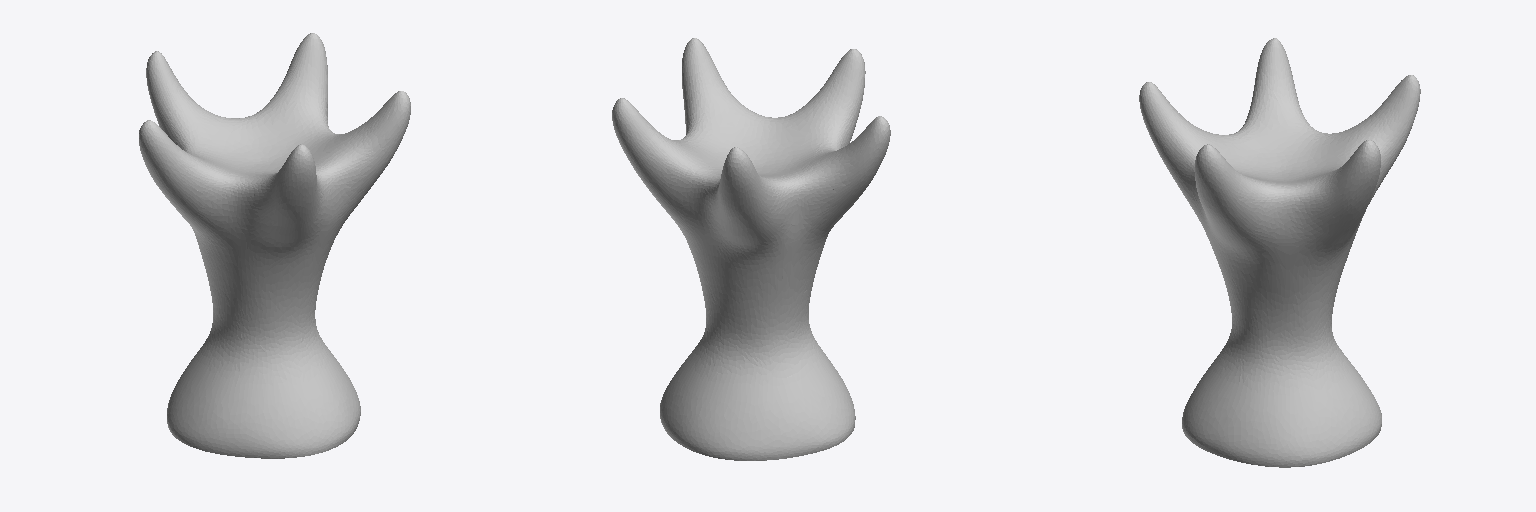
The model's file is EAT.07.obj.
The picture shows the model from 3 angles: view 1: azimuth 30°, elevation 25°; view 2: azimuth 150°, elevation 25°; view 3: azimuth 270°, elevation 25°; orthographic projection.
Parts seen in each view (by area): view 1: Quad_Sphere_Quad_Sphere.001; view 2: Quad_Sphere_Quad_Sphere.001; view 3: Quad_Sphere_Quad_Sphere.001.
Boxes of the visible parts, x1=… form: Quad_Sphere_Quad_Sphere.001: x1=139, y1=33, x2=410, y2=458; Quad_Sphere_Quad_Sphere.001: x1=612, y1=38, x2=890, y2=460; Quad_Sphere_Quad_Sphere.001: x1=1139, y1=38, x2=1420, y2=467.
Size of the model in its own units: 3.59 by 4.8 by 3.7.